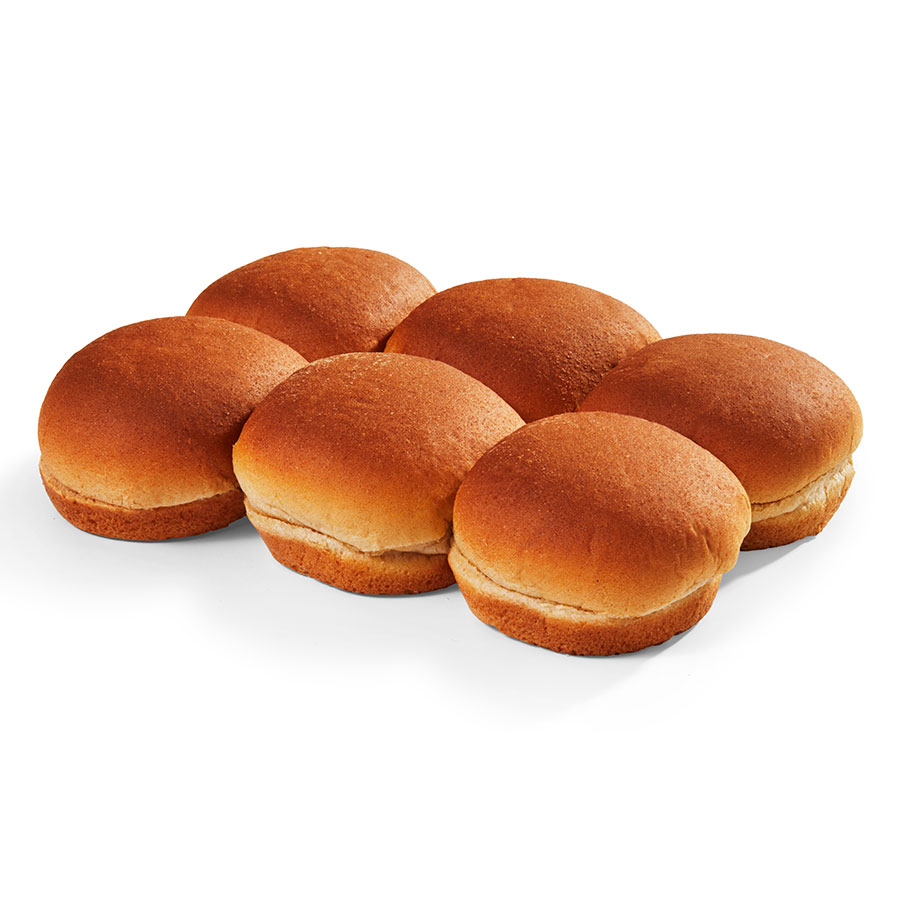hamburger_buns: (37, 212, 867, 711)
